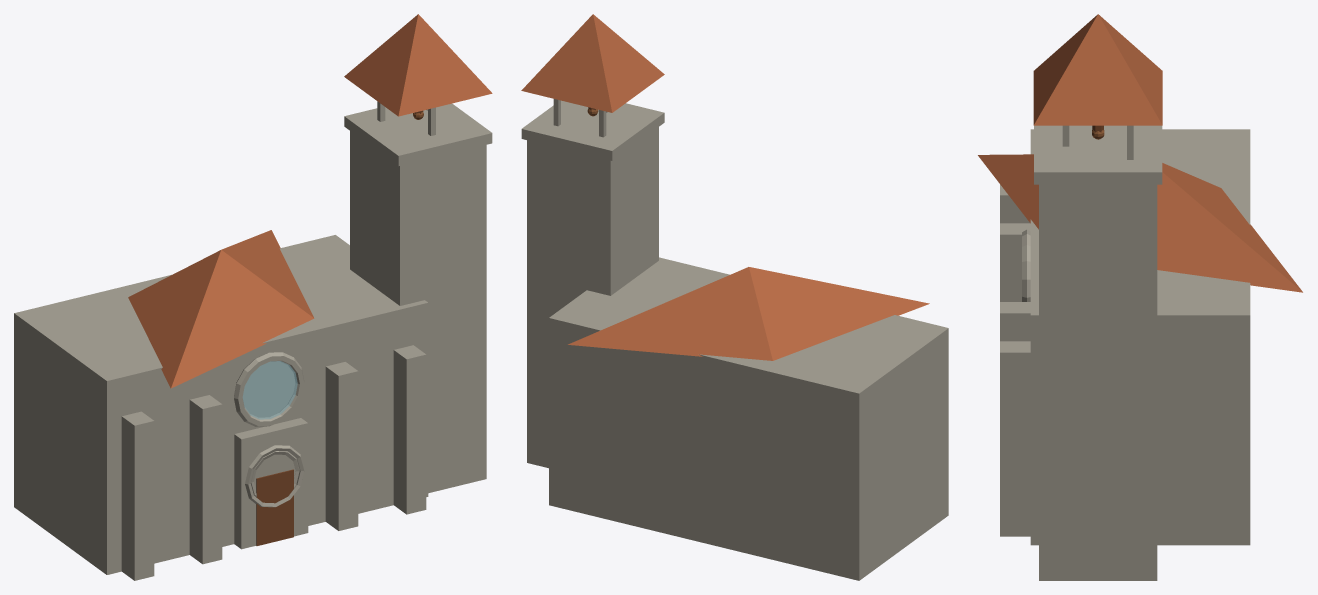
The model's file is collegiate.glb.
3 renders of one model, left to right at view 1: azimuth 30°, elevation 25°; view 2: azimuth 150°, elevation 25°; view 3: azimuth 270°, elevation 25°, orthographic. The views are drawn at different scales.
Visible parts, largest first — view 1: collegiate; view 2: collegiate; view 3: collegiate.
Part boxes in pixels (<box>): collegiate: <box>14,14,492,580</box>; collegiate: <box>521,14,948,580</box>; collegiate: <box>978,14,1302,580</box>.
Size of the model in its own units: 31.32 by 35.35 by 19.28.
